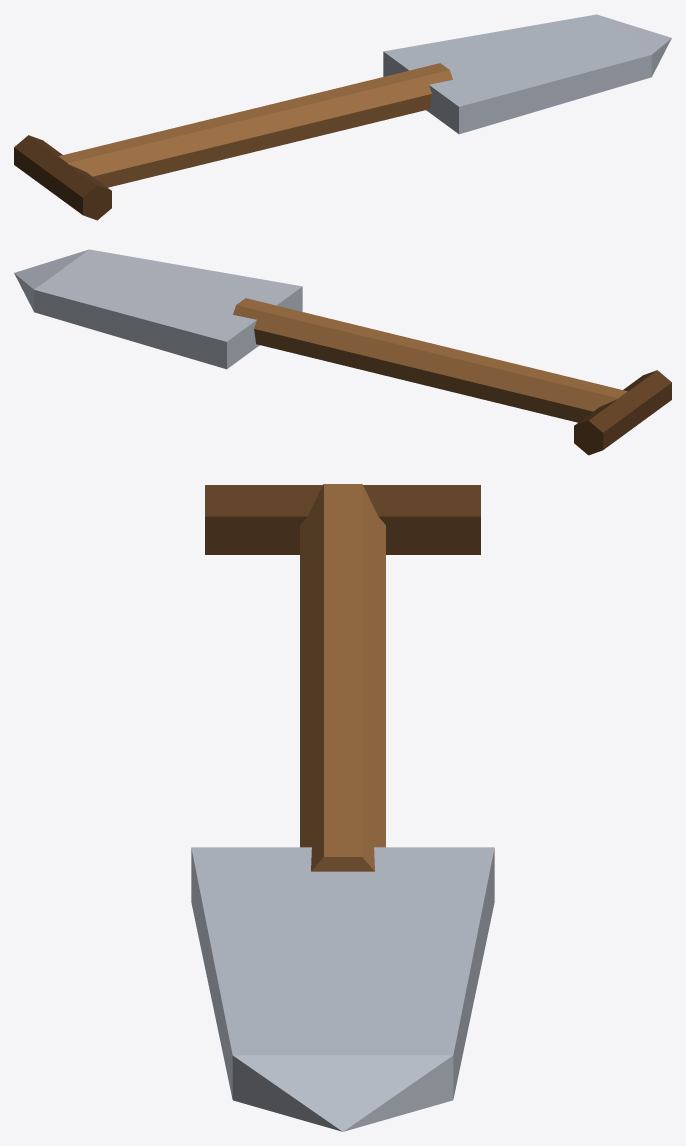
Rendered from drop_spade.glb.
3 renders of one model, top to bottom at view 1: azimuth 30°, elevation 25°; view 2: azimuth 150°, elevation 25°; view 3: azimuth 270°, elevation 25°, orthographic. The views are drawn at different scales.
Parts seen in each view (by area): view 1: drop_spade; view 2: drop_spade; view 3: drop_spade.
Part boxes in pixels (bbox=[...]): drop_spade: bbox=[14, 14, 671, 220]; drop_spade: bbox=[14, 249, 671, 455]; drop_spade: bbox=[191, 484, 494, 1131].
Size of the model in its own units: 0.5221 by 0.0304 by 0.11.
